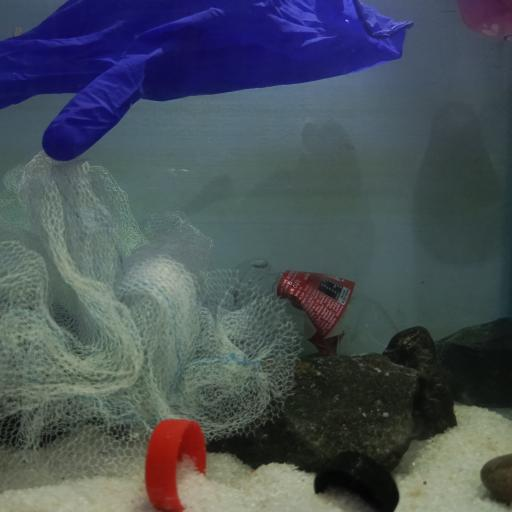bottle_cap: (145, 417, 206, 512), (314, 448, 400, 512)
glove: (0, 0, 416, 161)
net: (0, 150, 302, 476)
plastic_bottle: (230, 257, 407, 358)
